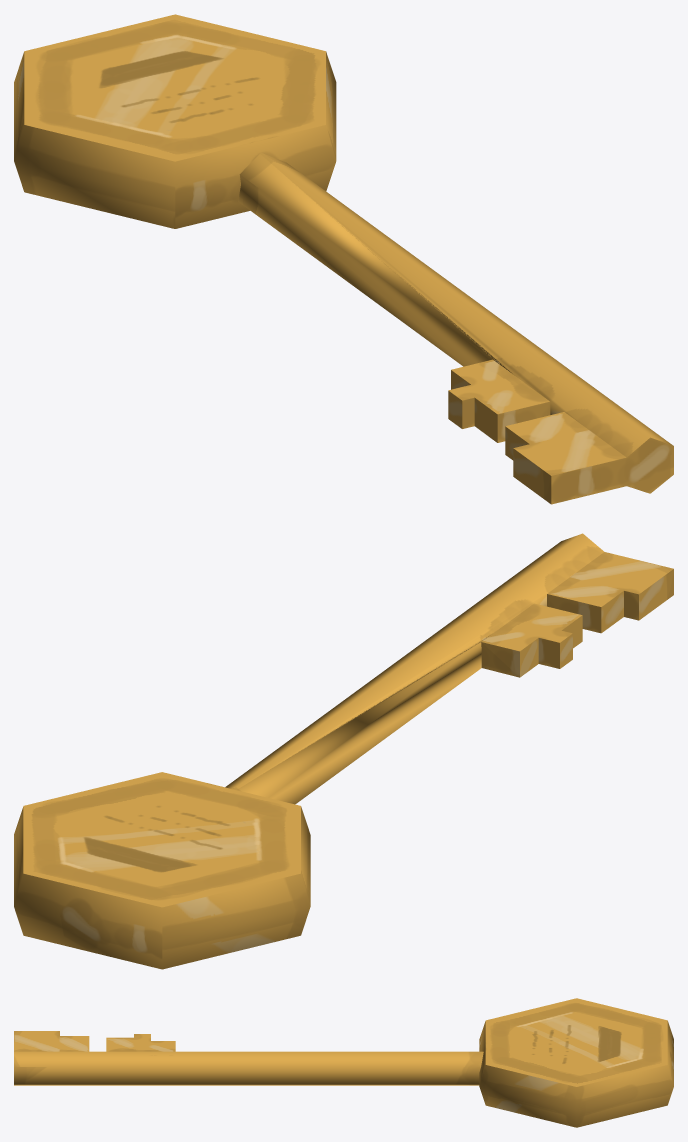
The model's file is key.FBX.
3 renders of one model, top to bottom at view 1: azimuth 30°, elevation 25°; view 2: azimuth 150°, elevation 25°; view 3: azimuth 270°, elevation 25°, orthographic. The views are drawn at different scales.
Parts seen in each view (by area): view 1: key001; view 2: key001; view 3: key001.
Part boxes in pixels (x1,y1,x2,y2): key001: (14,14,673,504); key001: (14,533,673,969); key001: (14,998,673,1127).
Size of the model in its own units: 0.1 by 0.02 by 0.2938.
Materials: 1 (1 with a texture image).
